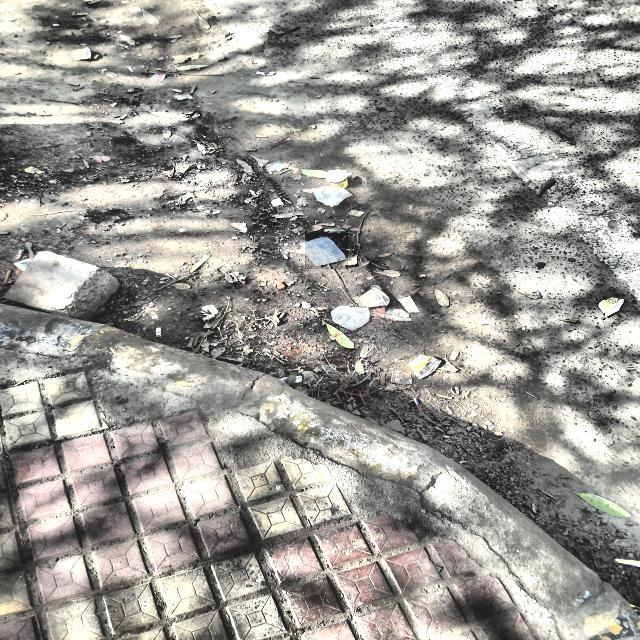anorganik: (305, 231, 347, 269), (313, 171, 352, 204)
